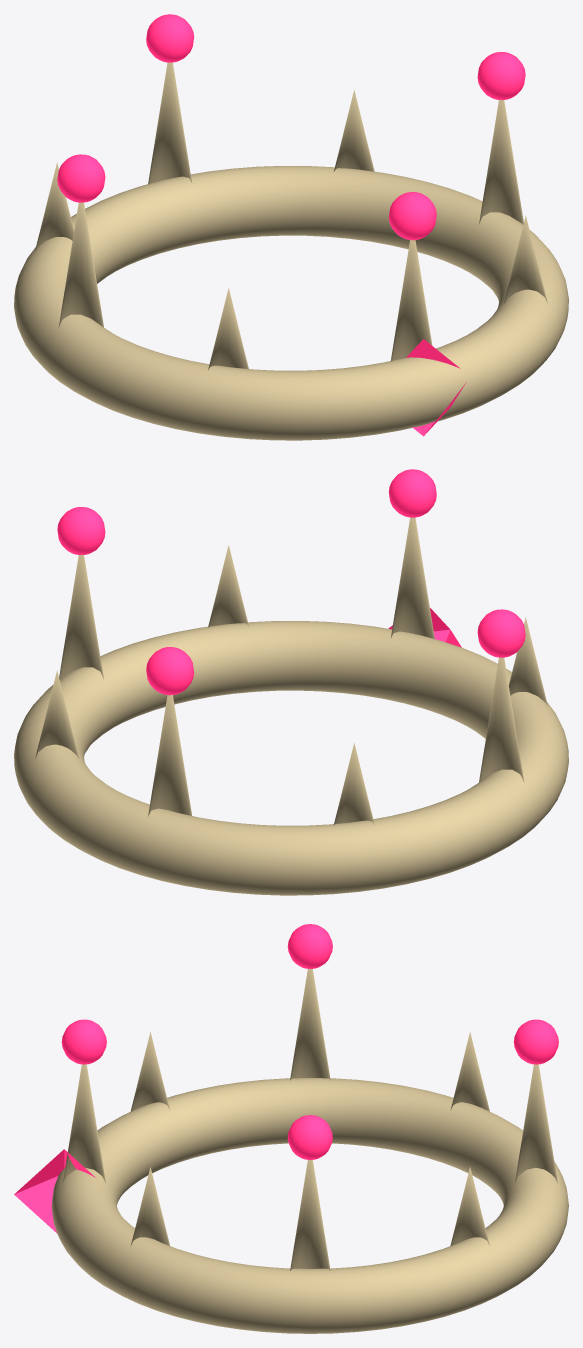
Rendered from crown3d.glb.
The picture shows the model from 3 angles, top to bottom: view 1: azimuth 30°, elevation 25°; view 2: azimuth 150°, elevation 25°; view 3: azimuth 270°, elevation 25°; orthographic projection. The views are drawn at different scales.
Visible parts, largest first — view 1: gold, redGem, centerGem; view 2: gold, redGem; view 3: gold, redGem, centerGem.
Boxes of the visible parts, box(x1,y1,x2,y2) form: gold: box(14, 62, 568, 440); redGem: box(57, 14, 525, 240); centerGem: box(406, 339, 466, 436); gold: box(14, 517, 568, 895); redGem: box(57, 469, 525, 695); gold: box(51, 969, 568, 1333); redGem: box(61, 924, 558, 1159); centerGem: box(14, 1149, 96, 1232).
Bounding box in the file's own units: 2.06 × 0.96 × 2.21.
